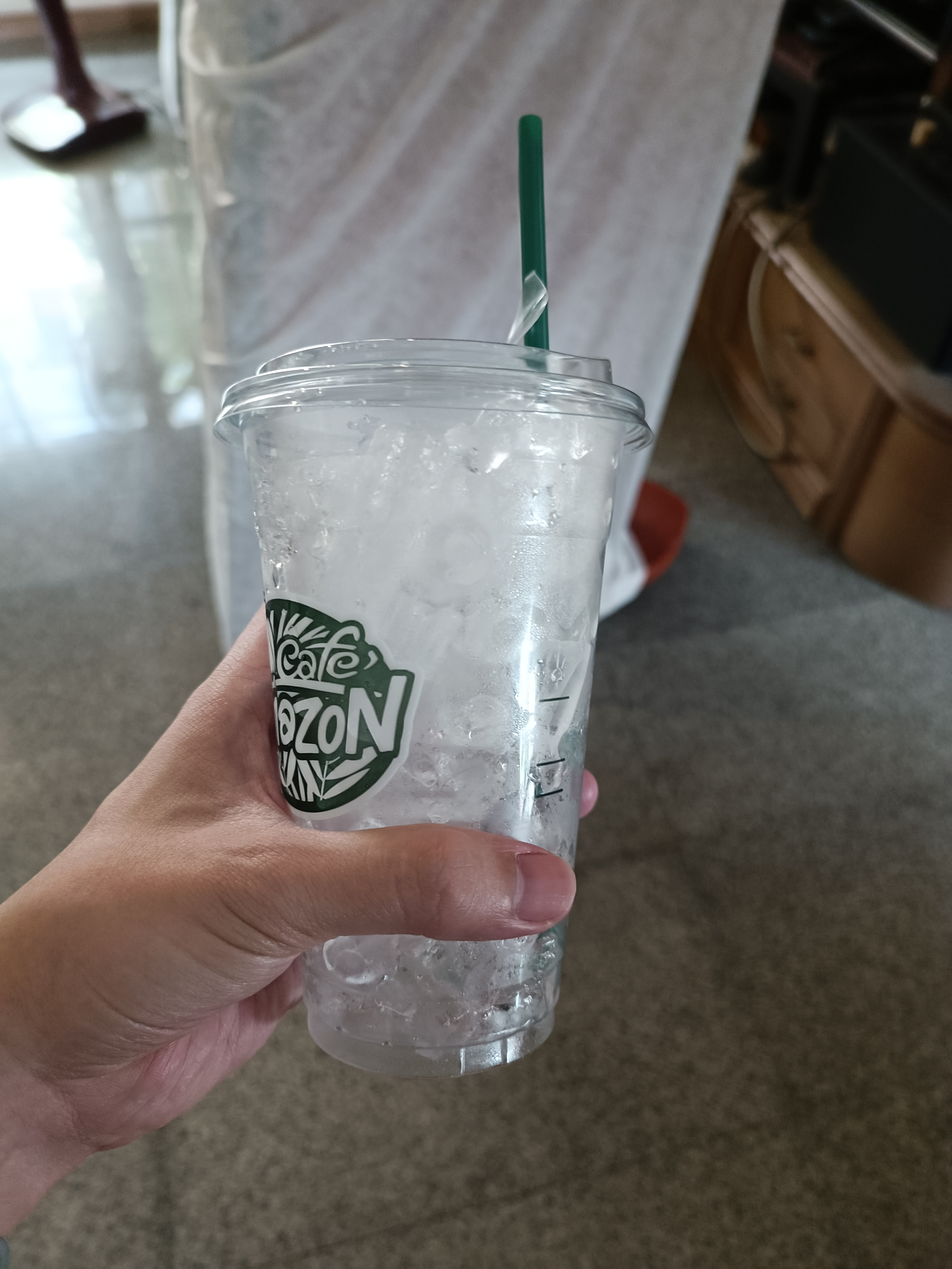plastic: (218, 95, 712, 1073)
